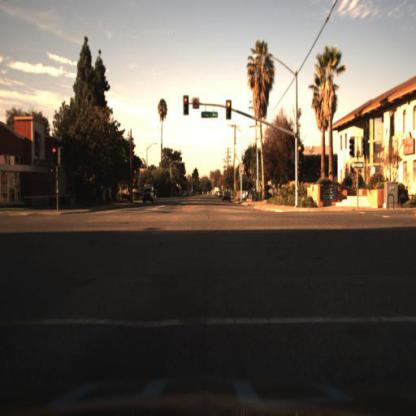car: (140, 181, 157, 209), (221, 189, 234, 206)
trafficLight-Red: (224, 96, 234, 124), (296, 143, 305, 168)
trafficLight-RedLeft: (50, 145, 60, 171), (184, 96, 192, 118)
